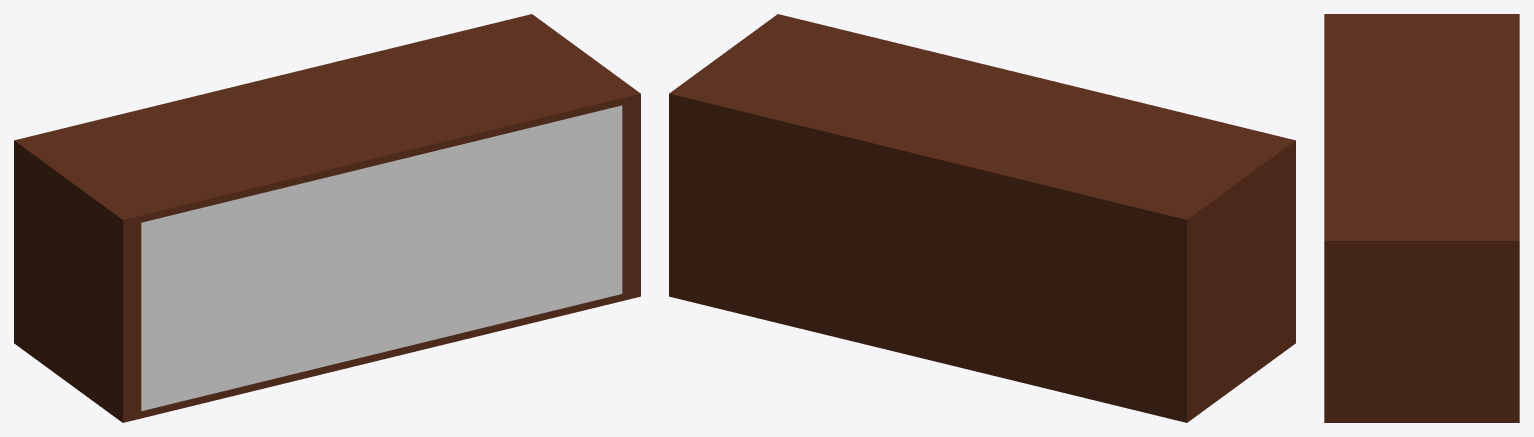
The model's file is Bench assessment.fbx.
3 renders of one model, left to right at view 1: azimuth 30°, elevation 25°; view 2: azimuth 150°, elevation 25°; view 3: azimuth 270°, elevation 25°, orthographic. The views are drawn at different scales.
Parts seen in each view (by area): view 1: Cube; view 2: Cube; view 3: Cube.
Boxes of the visible parts, x1,y1,x2,y2 form: Cube: [14, 14, 640, 422]; Cube: [669, 14, 1295, 422]; Cube: [1324, 14, 1519, 422].
Bounding box in the file's own units: 461 × 173 × 168.
